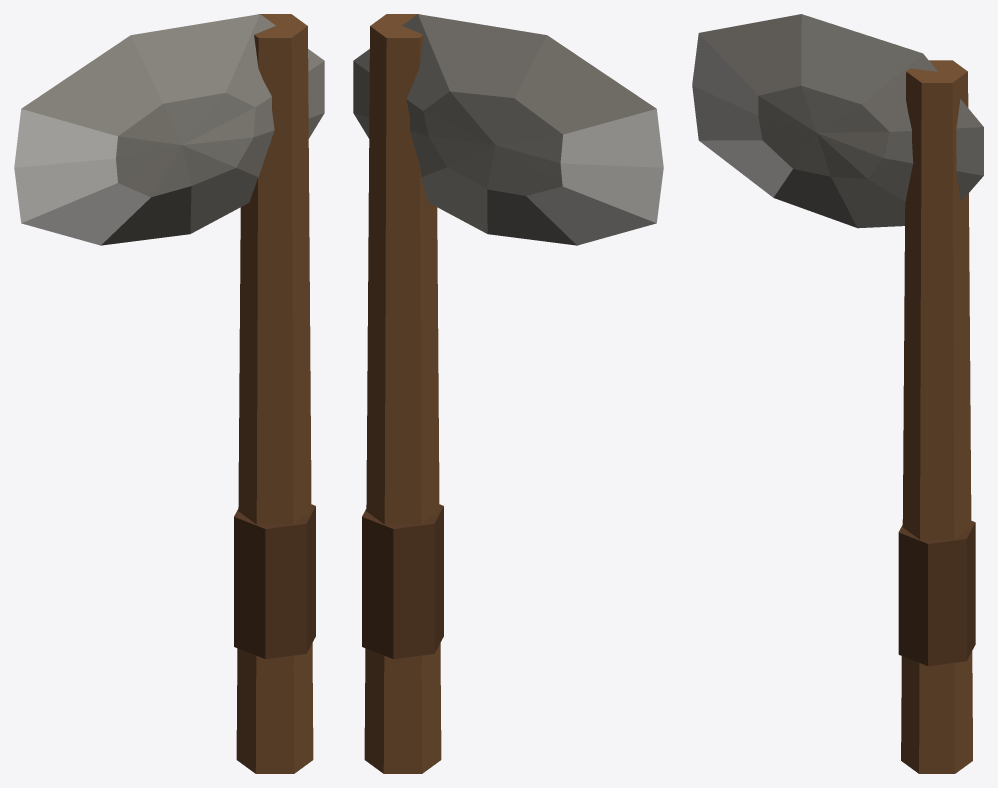
The model's file is wpn_axe_stone_01.fbx.
3 renders of one model, left to right at view 1: azimuth 30°, elevation 25°; view 2: azimuth 150°, elevation 25°; view 3: azimuth 330°, elevation 25°, orthographic. The views are drawn at different scales.
Parts seen in each view (by area): view 1: wpn_axe_stone_01; view 2: wpn_axe_stone_01; view 3: wpn_axe_stone_01.
Part boxes in pixels (x1,y1,x2,y2): wpn_axe_stone_01: (14,14,324,773); wpn_axe_stone_01: (353,14,663,773); wpn_axe_stone_01: (692,14,983,773).
Size of the model in its own units: 0.2746 by 0.0629 by 0.642.
1 material, 1 textured.
